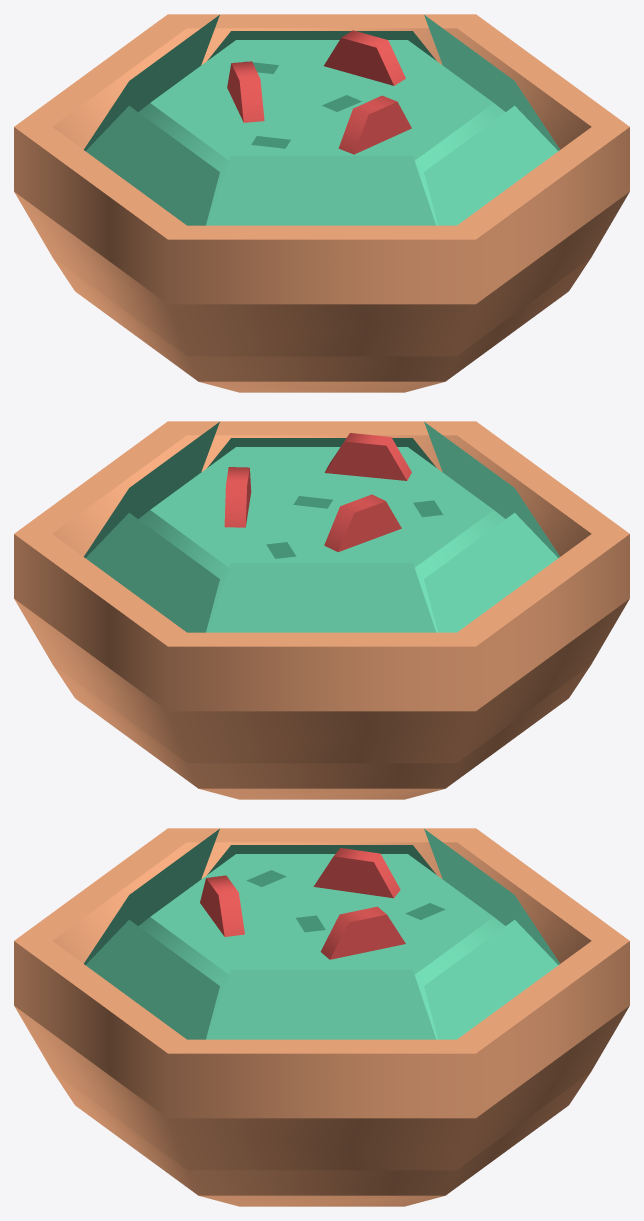
File: salad.obj
3 views of the same model, one above another, from view 1: azimuth 30°, elevation 25°; view 2: azimuth 150°, elevation 25°; view 3: azimuth 270°, elevation 25° (orthographic).
Visible parts, largest first — view 1: salad; view 2: salad; view 3: salad.
Boxes of the visible parts, <box> form: salad: <box>14,14,629,392</box>; salad: <box>14,421,629,799</box>; salad: <box>14,828,629,1206</box>.
Size of the model in its own units: 0.5022 by 0.2734 by 0.5798.
